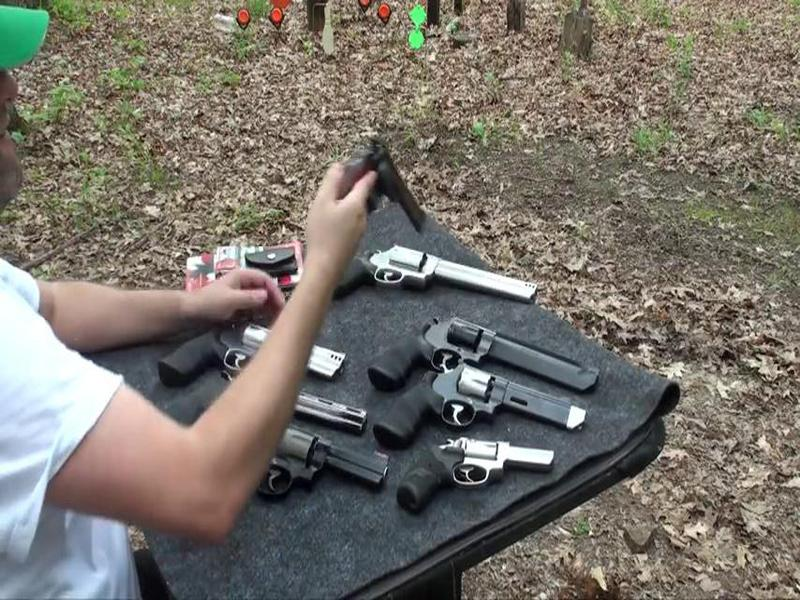Revolver: (357, 346, 599, 442)
